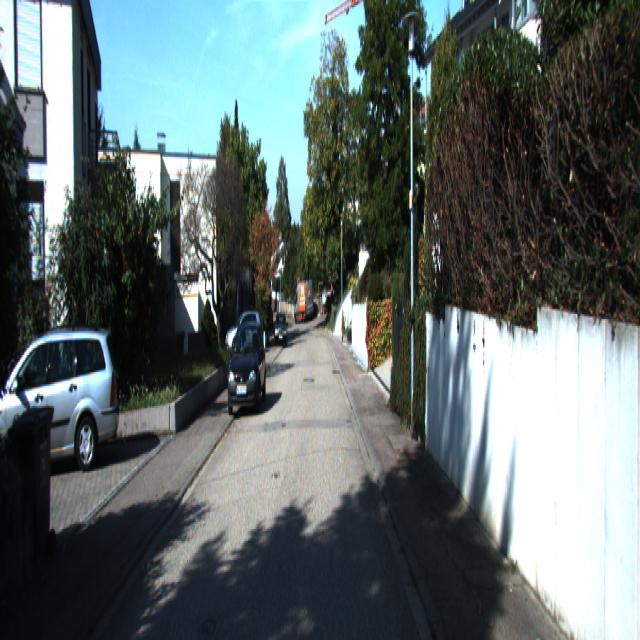Car: (0, 323, 119, 488), (226, 318, 268, 416), (224, 310, 264, 358), (294, 277, 314, 322), (274, 310, 287, 344)
